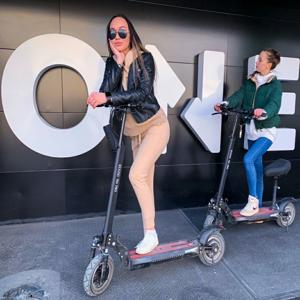human on a scooter: (82, 14, 225, 297), (203, 48, 297, 236)
